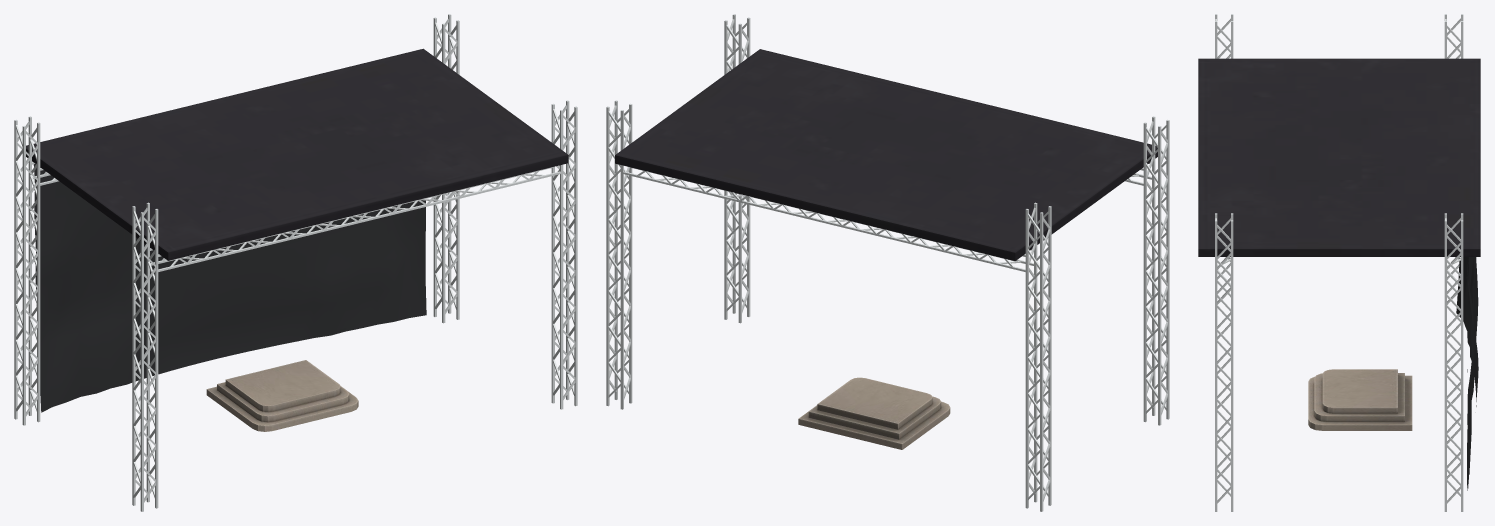
The model's file is concert_stage.glb.
The picture shows the model from 3 angles, left to right: view 1: azimuth 30°, elevation 25°; view 2: azimuth 150°, elevation 25°; view 3: azimuth 270°, elevation 25°; orthographic projection. The views are drawn at different scales.
Visible parts, largest first — view 1: concert-stage.main.final; view 2: concert-stage.main.final; view 3: concert-stage.main.final.
Boxes of the visible parts, left/top/right/bottom form: concert-stage.main.final: left=14, top=14, right=577, bottom=511; concert-stage.main.final: left=606, top=14, right=1169, bottom=511; concert-stage.main.final: left=1198, top=14, right=1480, bottom=511.
Size of the model in its own units: 1885 by 1234 by 1087.
Materials: 1 (1 with a texture image).
